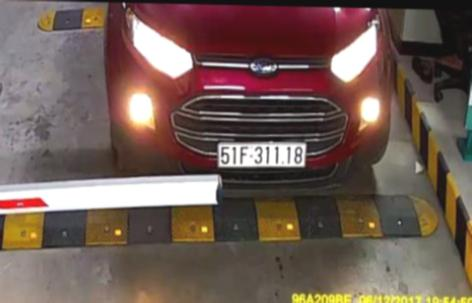License_Plate: (214, 138, 311, 179)
